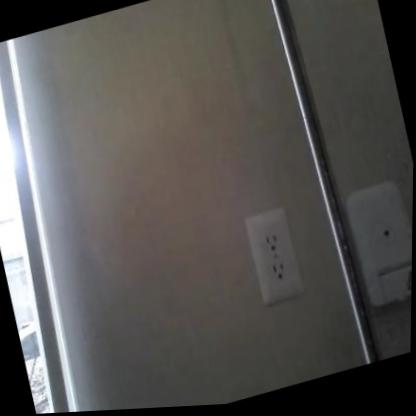OUTLET: (244, 203, 306, 306)
